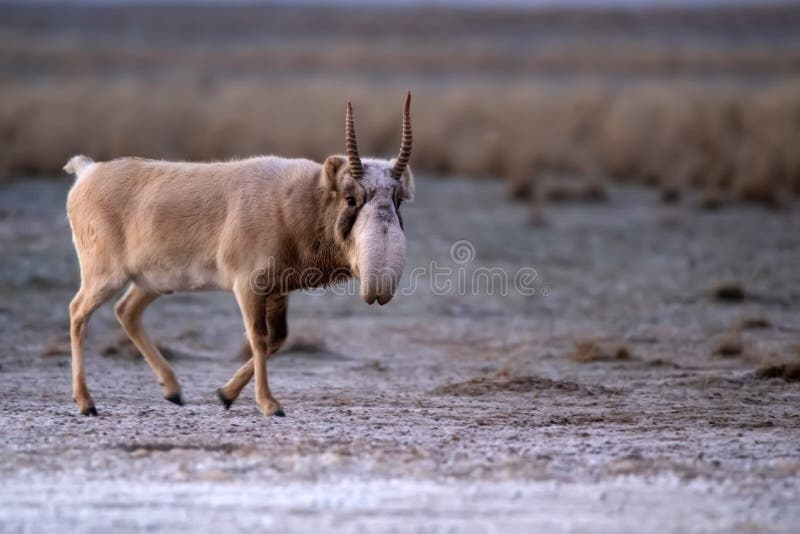saiga: (64, 92, 428, 434)
